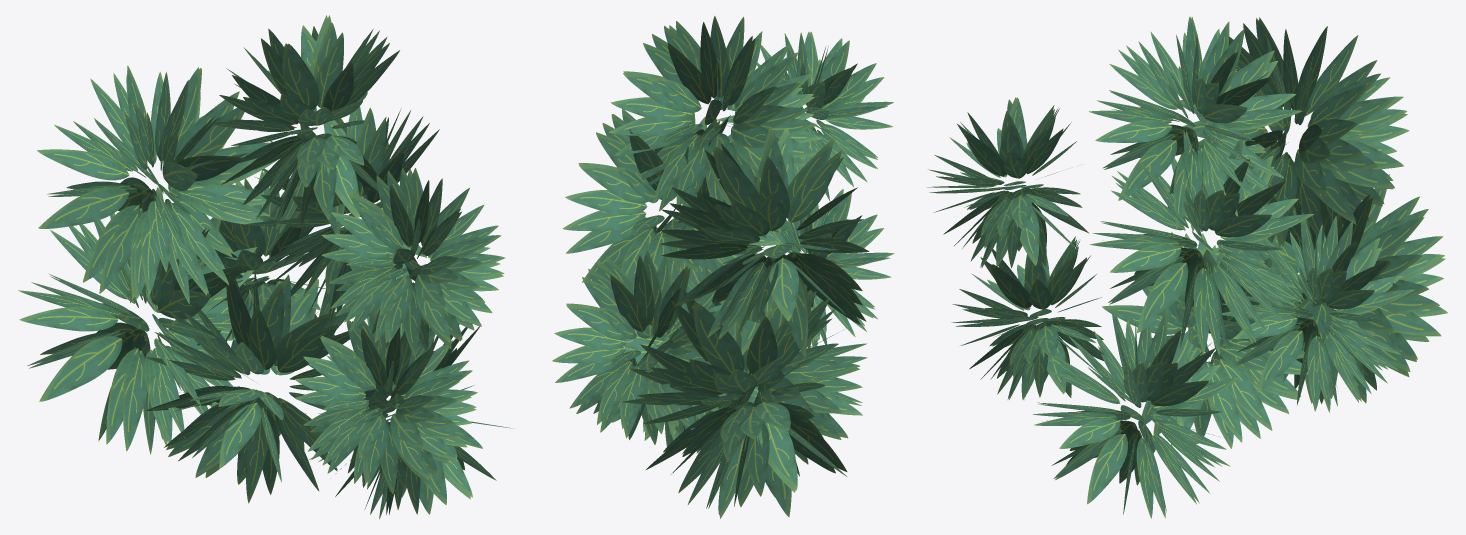
Rendered from bush_1-2.fbx.
The picture shows the model from 3 angles, left to right: view 1: azimuth 30°, elevation 25°; view 2: azimuth 150°, elevation 25°; view 3: azimuth 270°, elevation 25°; orthographic projection. The views are drawn at different scales.
Parts seen in each view (by area): view 1: eucalyptus_leaf.015; view 2: eucalyptus_leaf.015; view 3: eucalyptus_leaf.015.
Boxes of the visible parts, <box> form: eucalyptus_leaf.015: <box>18,15,512,519</box>; eucalyptus_leaf.015: <box>552,16,894,518</box>; eucalyptus_leaf.015: <box>927,16,1447,518</box>.
Size of the model in its own units: 340 by 441 by 459.
